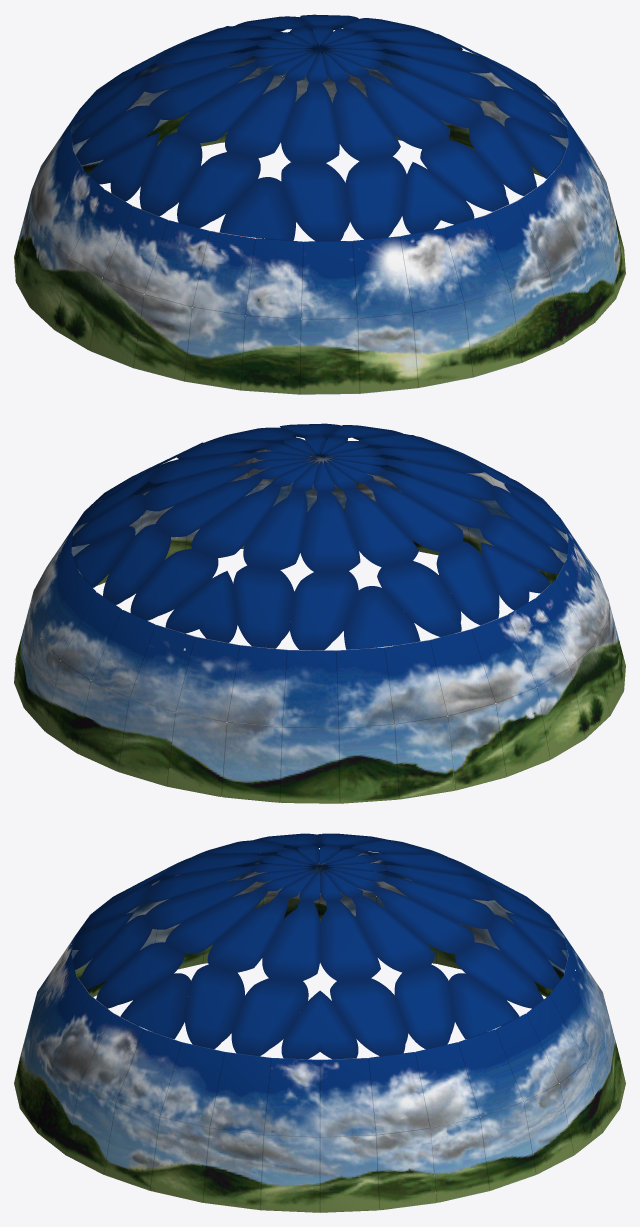
The picture shows the model from 3 angles, top to bottom: view 1: azimuth 30°, elevation 25°; view 2: azimuth 150°, elevation 25°; view 3: azimuth 270°, elevation 25°; orthographic projection.
Parts seen in each view (by area): view 1: T1L9M007_10; view 2: T1L9M007_10; view 3: T1L9M007_10.
Boxes of the visible parts, x1=… form: T1L9M007_10: x1=14, y1=14, x2=625, y2=394; T1L9M007_10: x1=14, y1=423, x2=625, y2=803; T1L9M007_10: x1=14, y1=833, x2=625, y2=1212.
Bounding box in the file's own units: 4.09 × 1.6 × 4.09.
